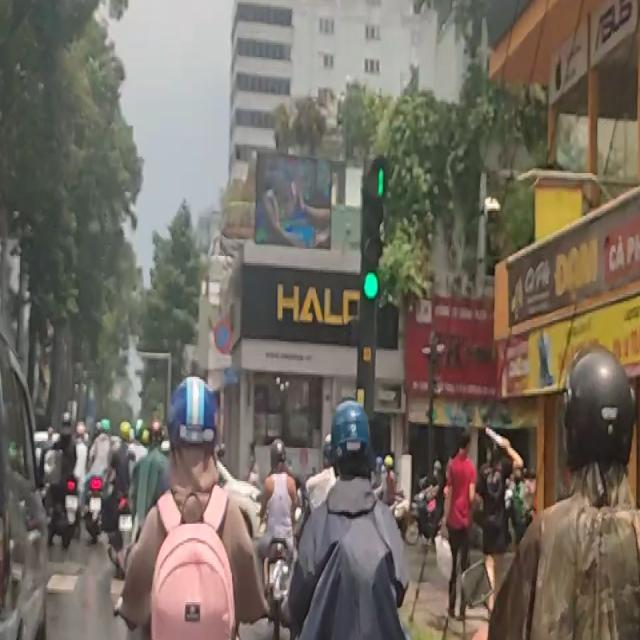Bien bao cam do xe: (212, 318, 235, 354)
